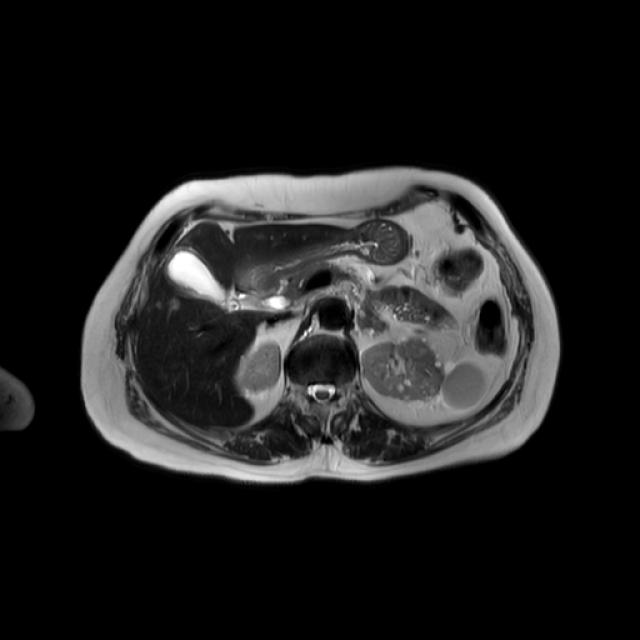sag: (237, 340, 281, 396)
sol: (362, 335, 488, 410)
